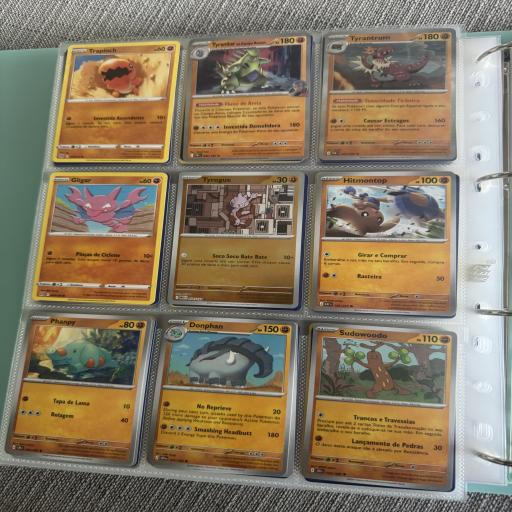card: (302, 321, 464, 491), (146, 310, 300, 476), (5, 305, 152, 465), (311, 166, 461, 316), (168, 166, 304, 309), (32, 168, 168, 305), (318, 28, 456, 160), (183, 31, 310, 164), (52, 40, 181, 163)
